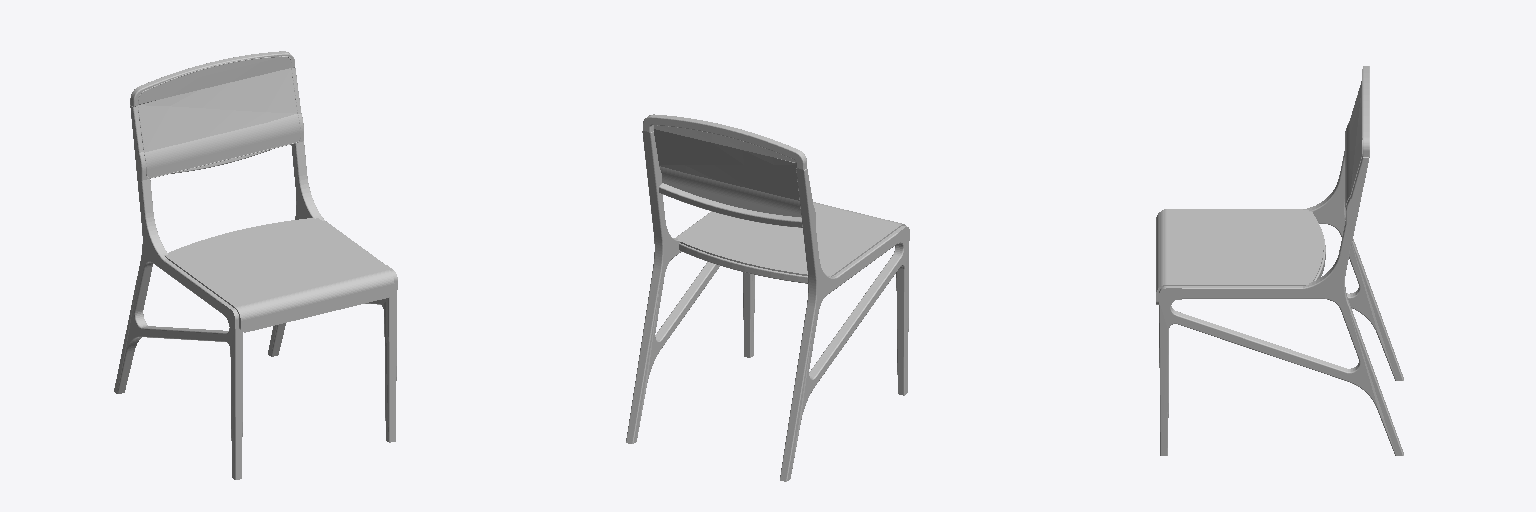
The model's file is cadeira.obj.
3 renders of one model, left to right at view 1: azimuth 30°, elevation 25°; view 2: azimuth 150°, elevation 25°; view 3: azimuth 270°, elevation 25°, orthographic.
Visible parts, largest first — view 1: Object_13, Object_7, Object_10, Object_9; view 2: Object_9, Object_10, Object_7, Object_13; view 3: Object_13, Object_9, Object_10, Object_7.
Part boxes in pixels (x1,y1,x2,y2): Object_13: (164,218,394,332); Object_7: (138,56,299,177); Object_10: (114,105,266,479); Object_9: (130,51,397,442); Object_9: (626,114,807,443); Object_10: (725,169,909,481); Object_7: (654,125,800,216); Object_13: (678,202,905,276); Object_13: (1156,210,1323,304); Object_9: (1159,66,1403,455); Object_10: (1162,151,1403,380); Object_7: (1345,82,1361,205).
Bounding box in the file's own units: 0.7336 × 1.39 × 0.9672.